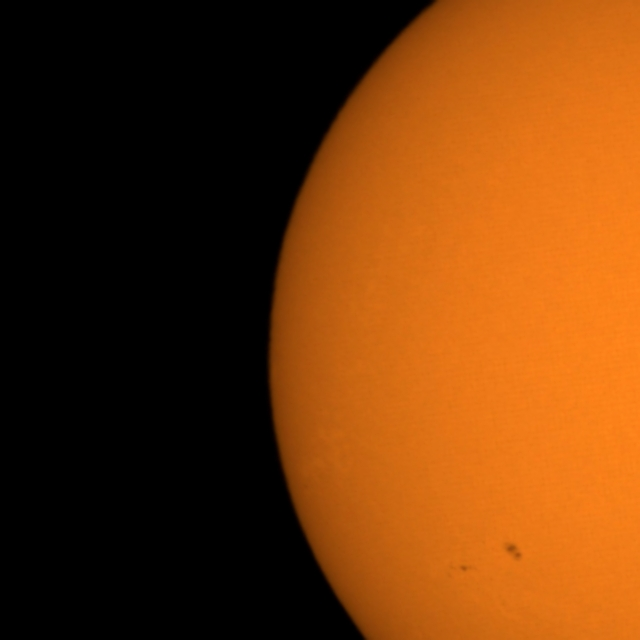sunspot: (503, 541, 524, 563), (446, 562, 470, 578)
